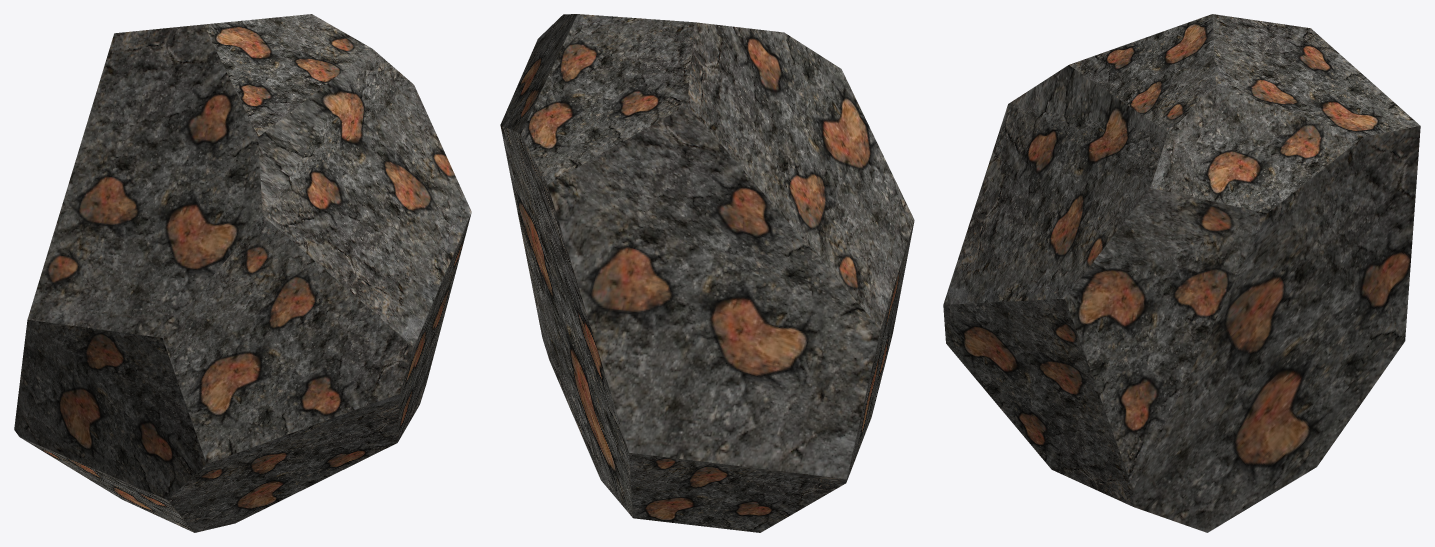
File: iron_ore_8.fbx
3 renders of one model, left to right at view 1: azimuth 30°, elevation 25°; view 2: azimuth 150°, elevation 25°; view 3: azimuth 270°, elevation 25°, orthographic. The views are drawn at different scales.
Parts seen in each view (by area): view 1: Rock_Type2_02_mesh.002; view 2: Rock_Type2_02_mesh.002; view 3: Rock_Type2_02_mesh.002.
Part boxes in pixels (x1,y1,x2,y2): Rock_Type2_02_mesh.002: (14,14,471,532); Rock_Type2_02_mesh.002: (500,14,914,532); Rock_Type2_02_mesh.002: (943,14,1420,532).
Size of the model in its own units: 0.6746 by 0.8299 by 0.7304.
